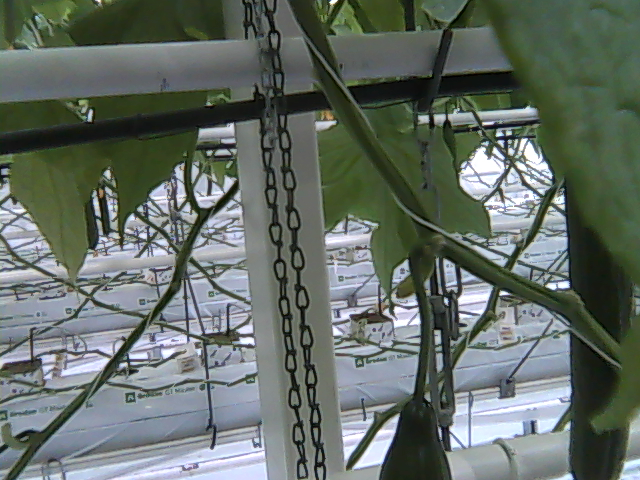concombre: (565, 162, 633, 480), (380, 391, 455, 480)
